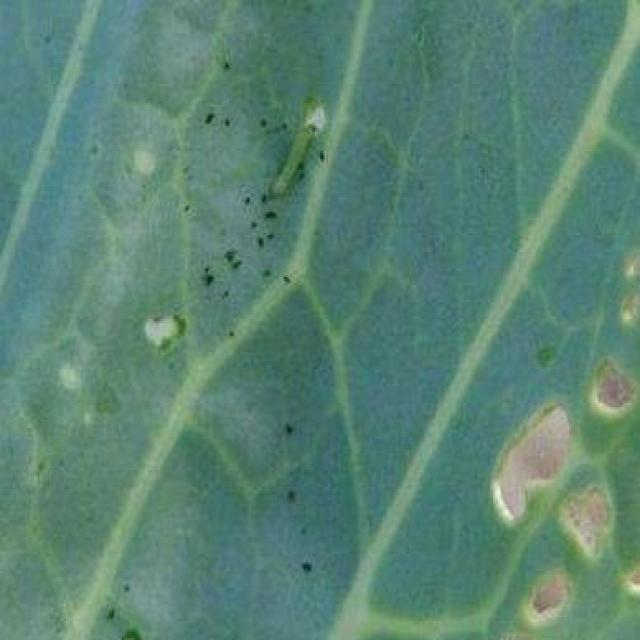armyworm: (257, 106, 327, 216)
